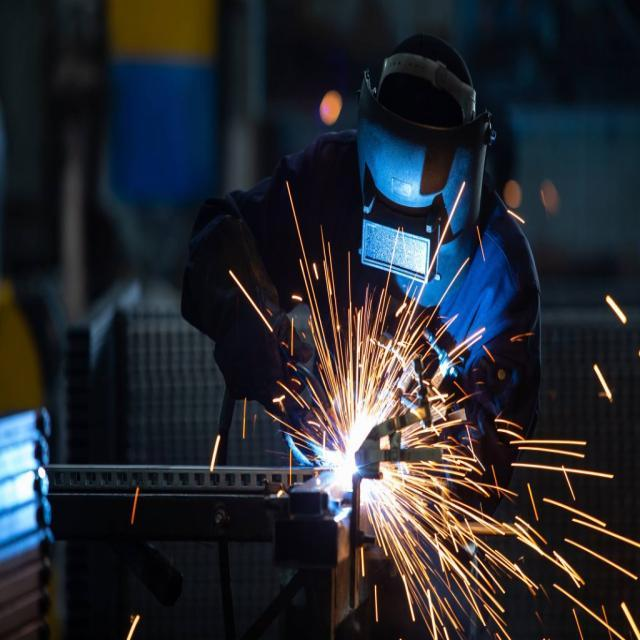with_helmet: (356, 36, 494, 304)
